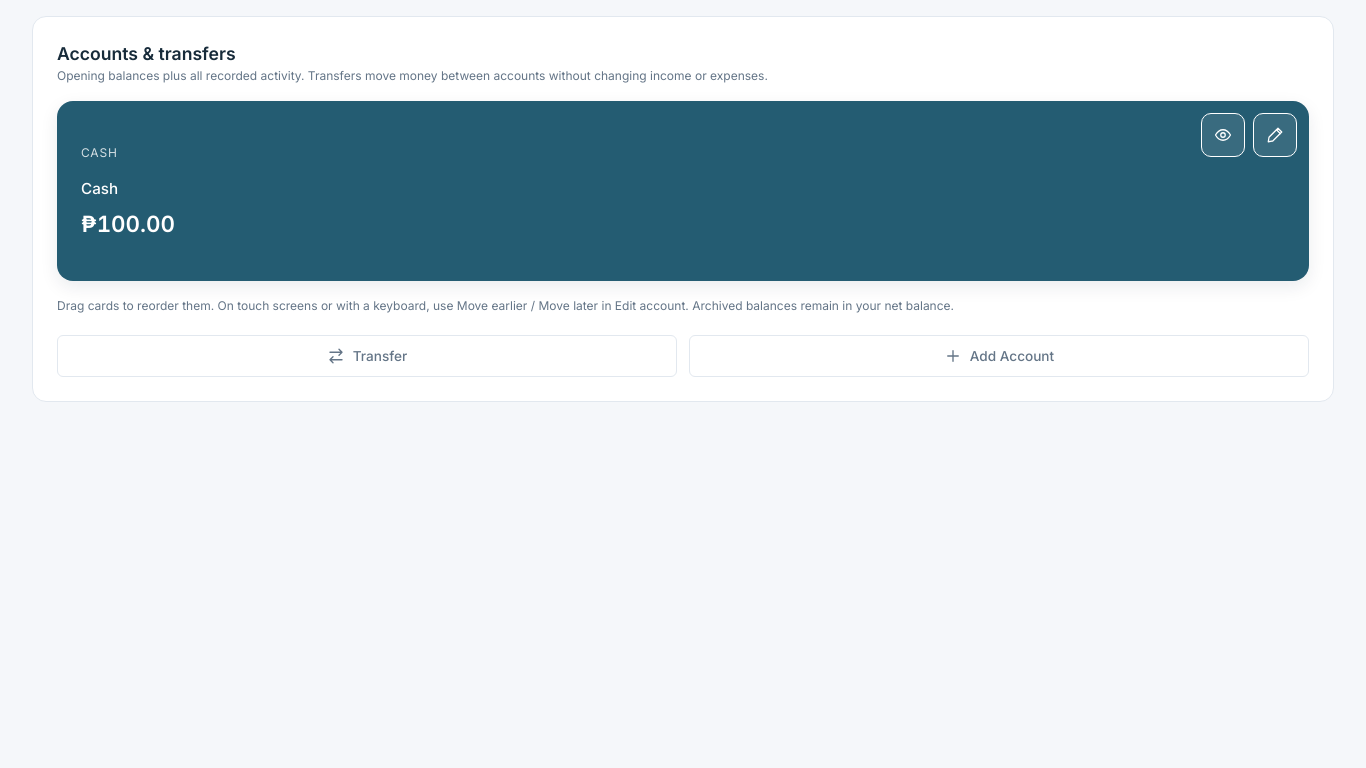
Scenario: account modal workflows › keeps balance validation inside the transfer modal
Click the button with aria-label "Transfer money": (367, 356) [57, 335, 677, 377]
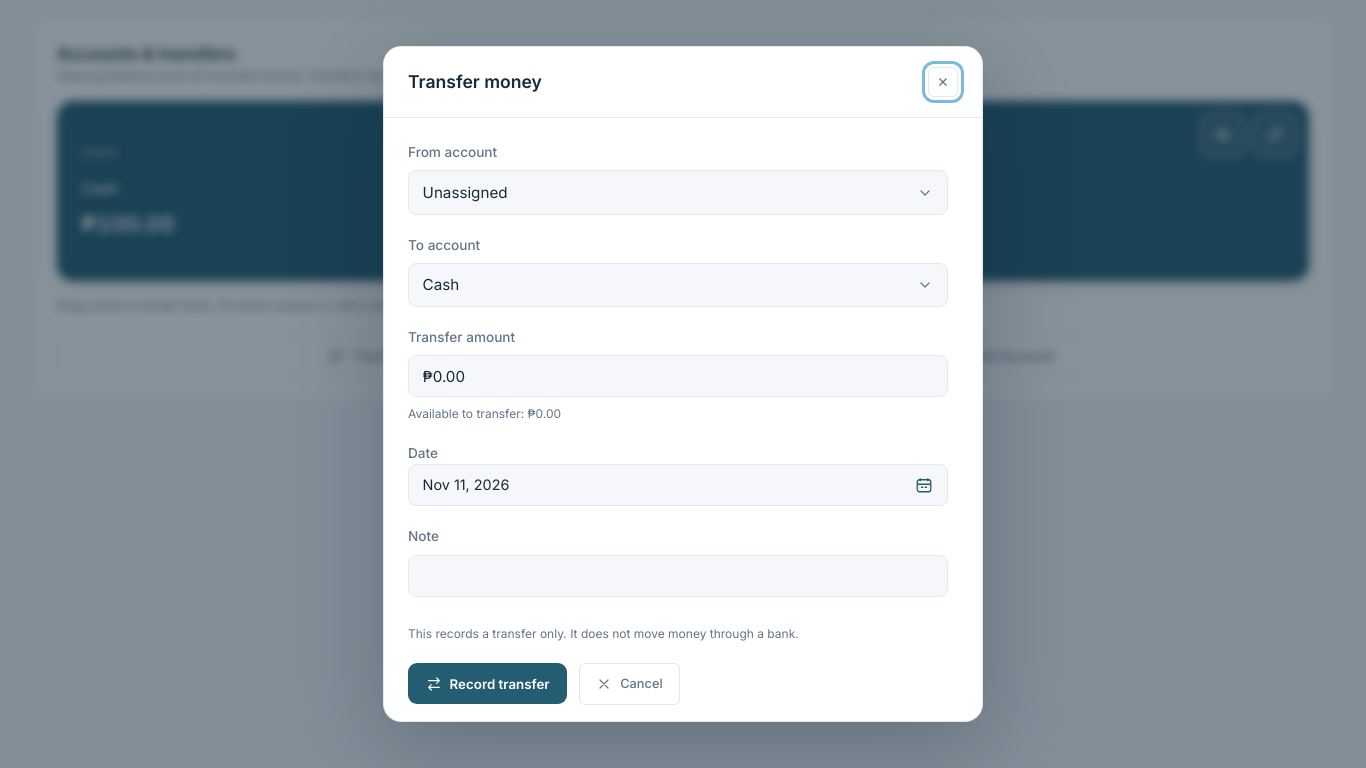
Now the dialog "Transfer money" is shown, box [383, 46, 983, 722]
Press 1 in the field labelled "Transfer amount", box [408, 355, 948, 397]
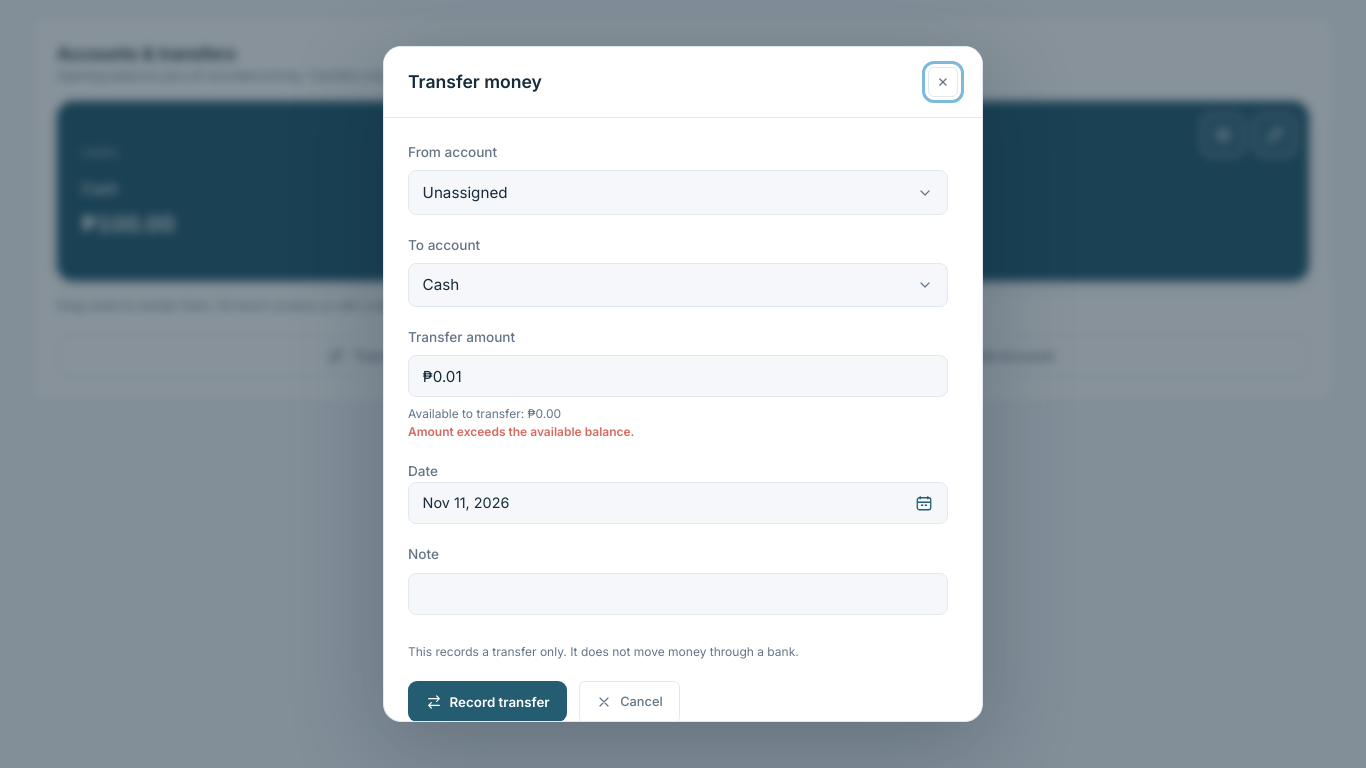
Now the button "Record transfer" is disabled, box [408, 681, 567, 721]
Now the message shows "exceeds", box [408, 424, 634, 439]
Click the button named "Close Transfer money": (943, 82) [928, 67, 958, 97]
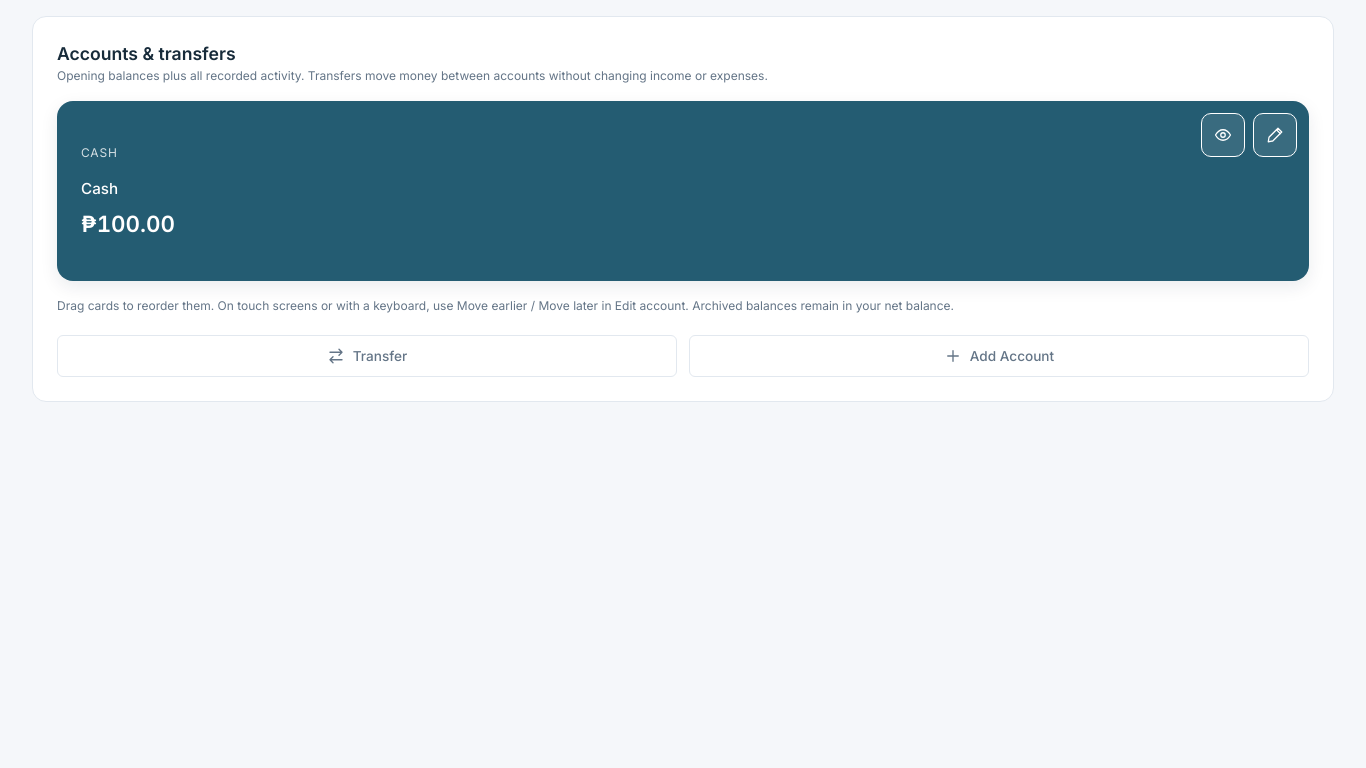
Now the dialog is gone
